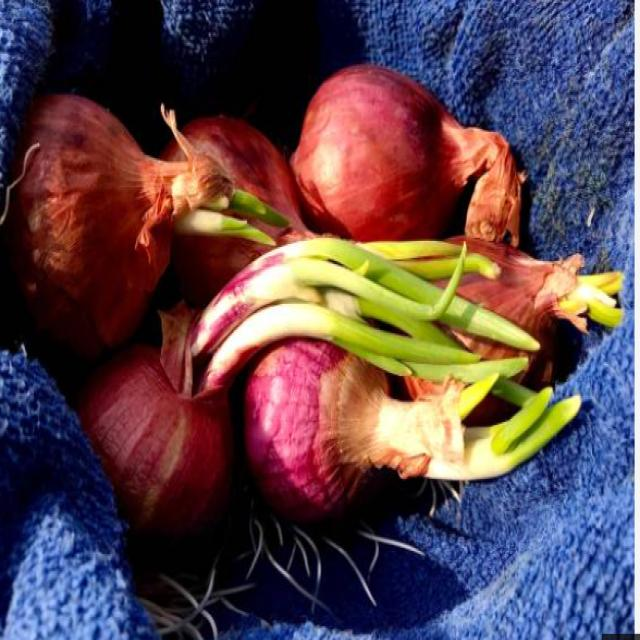mechanical_damage: (5, 95, 246, 356)
sprouting: (0, 0, 623, 640), (47, 115, 540, 432), (271, 294, 640, 514), (292, 64, 521, 242), (294, 70, 532, 230)
